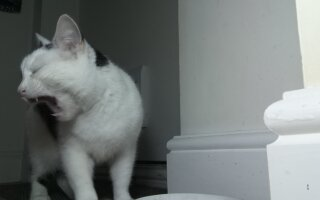bad: (14, 11, 148, 198)
